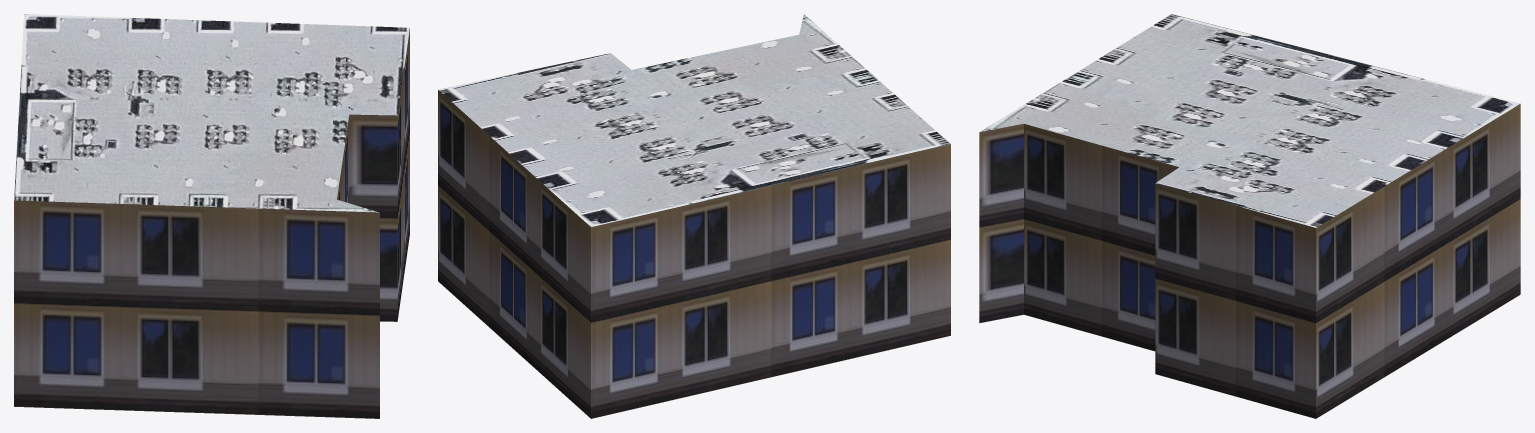
File: ResTex__4796.fbx
3 views of the same model, side by side, from view 1: azimuth 30°, elevation 25°; view 2: azimuth 150°, elevation 25°; view 3: azimuth 270°, elevation 25° (orthographic). The views are drawn at different scales.
Parts seen in each view (by area): view 1: CityEngineMaterial_5_m, CityEngineMaterial_8_m; view 2: CityEngineMaterial_5_m, CityEngineMaterial_8_m; view 3: CityEngineMaterial_5_m, CityEngineMaterial_8_m.
Boxes of the visible parts, bbox=[...] form: CityEngineMaterial_5_m: bbox=[14, 29, 409, 418]; CityEngineMaterial_8_m: bbox=[14, 14, 409, 212]; CityEngineMaterial_5_m: bbox=[438, 90, 950, 418]; CityEngineMaterial_8_m: bbox=[438, 14, 950, 227]; CityEngineMaterial_5_m: bbox=[979, 104, 1520, 418]; CityEngineMaterial_8_m: bbox=[980, 14, 1519, 227].
Size of the model in its own units: 14.42 by 6 by 15.41.
2 materials, 2 textured.
